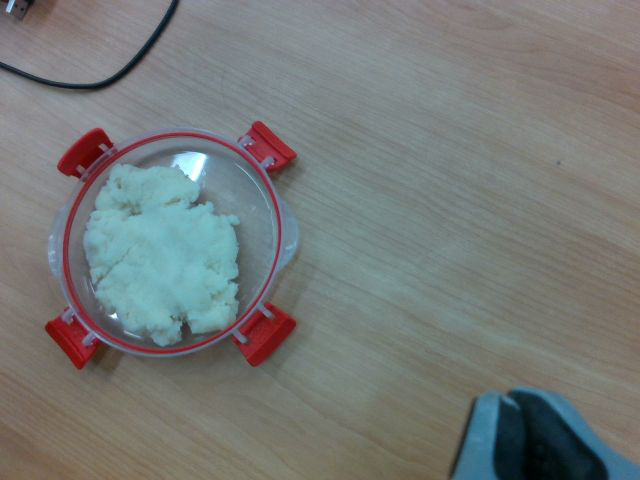mashed_potato: (86, 164, 240, 334)
